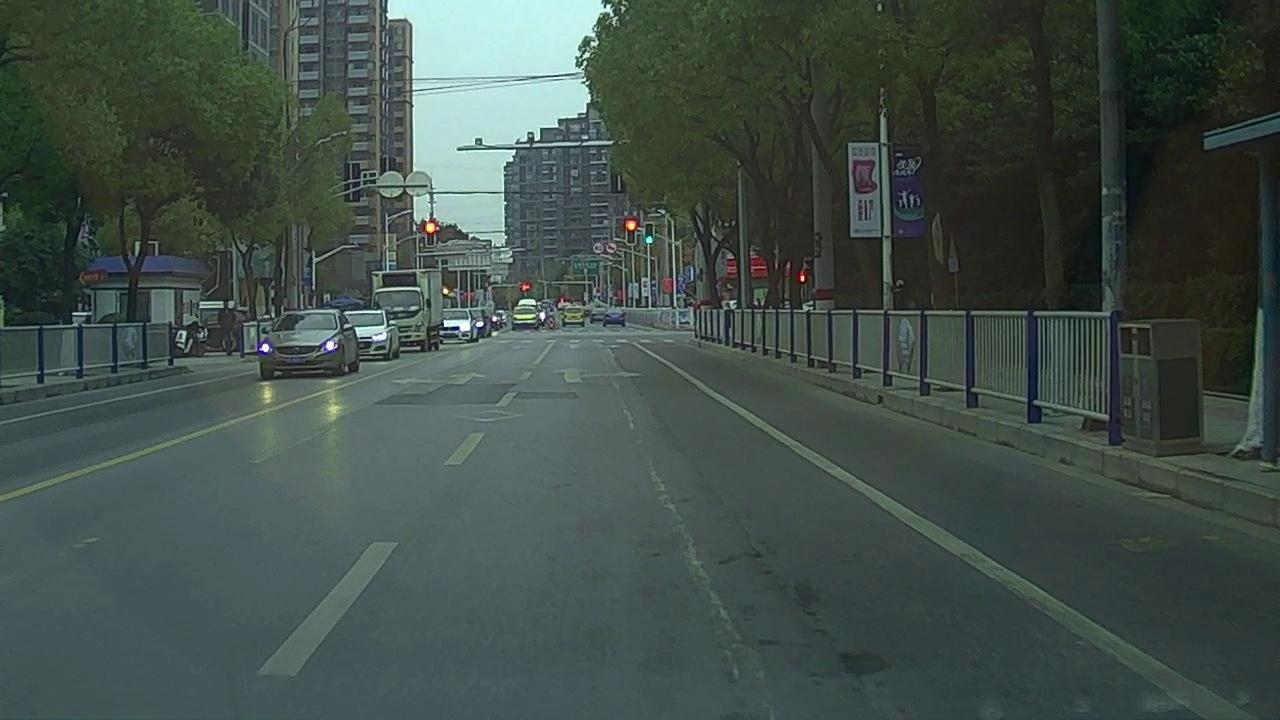traffic_light: (425, 219, 436, 245), (625, 221, 636, 243), (645, 225, 654, 245)
